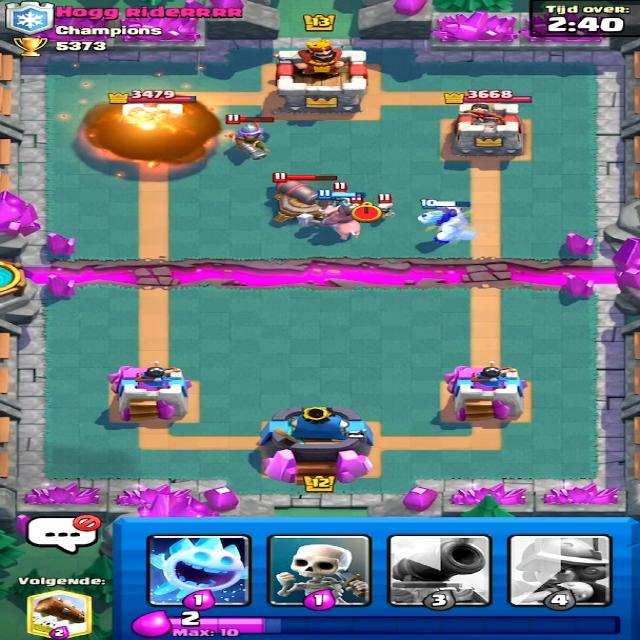Cannon_Card: (391, 534, 489, 604)
Enemy_Cannon_Troop: (262, 180, 322, 218)
Enemy_Musketeer_Troop: (211, 118, 289, 158)
Enemy_Skeleton_Troop: (376, 202, 401, 218)
Hog_Rider_Troop: (295, 199, 373, 244)
Ice_Golem_Troop: (413, 205, 483, 250)
Ice_Spirit_Card: (146, 532, 247, 604), (145, 534, 247, 604)
Musketeer_Card: (512, 535, 614, 604)
Skeleton_Card: (268, 538, 375, 611)
